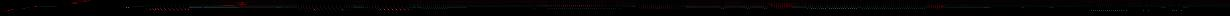Blue cone: (11, 9, 18, 10), (26, 7, 31, 8), (34, 6, 38, 7)
Orange: (767, 3, 796, 9), (927, 5, 946, 9), (235, 2, 250, 6)
